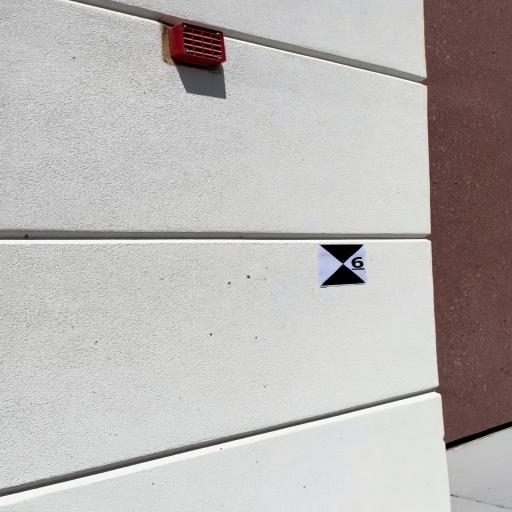target6: (314, 243, 367, 287)
